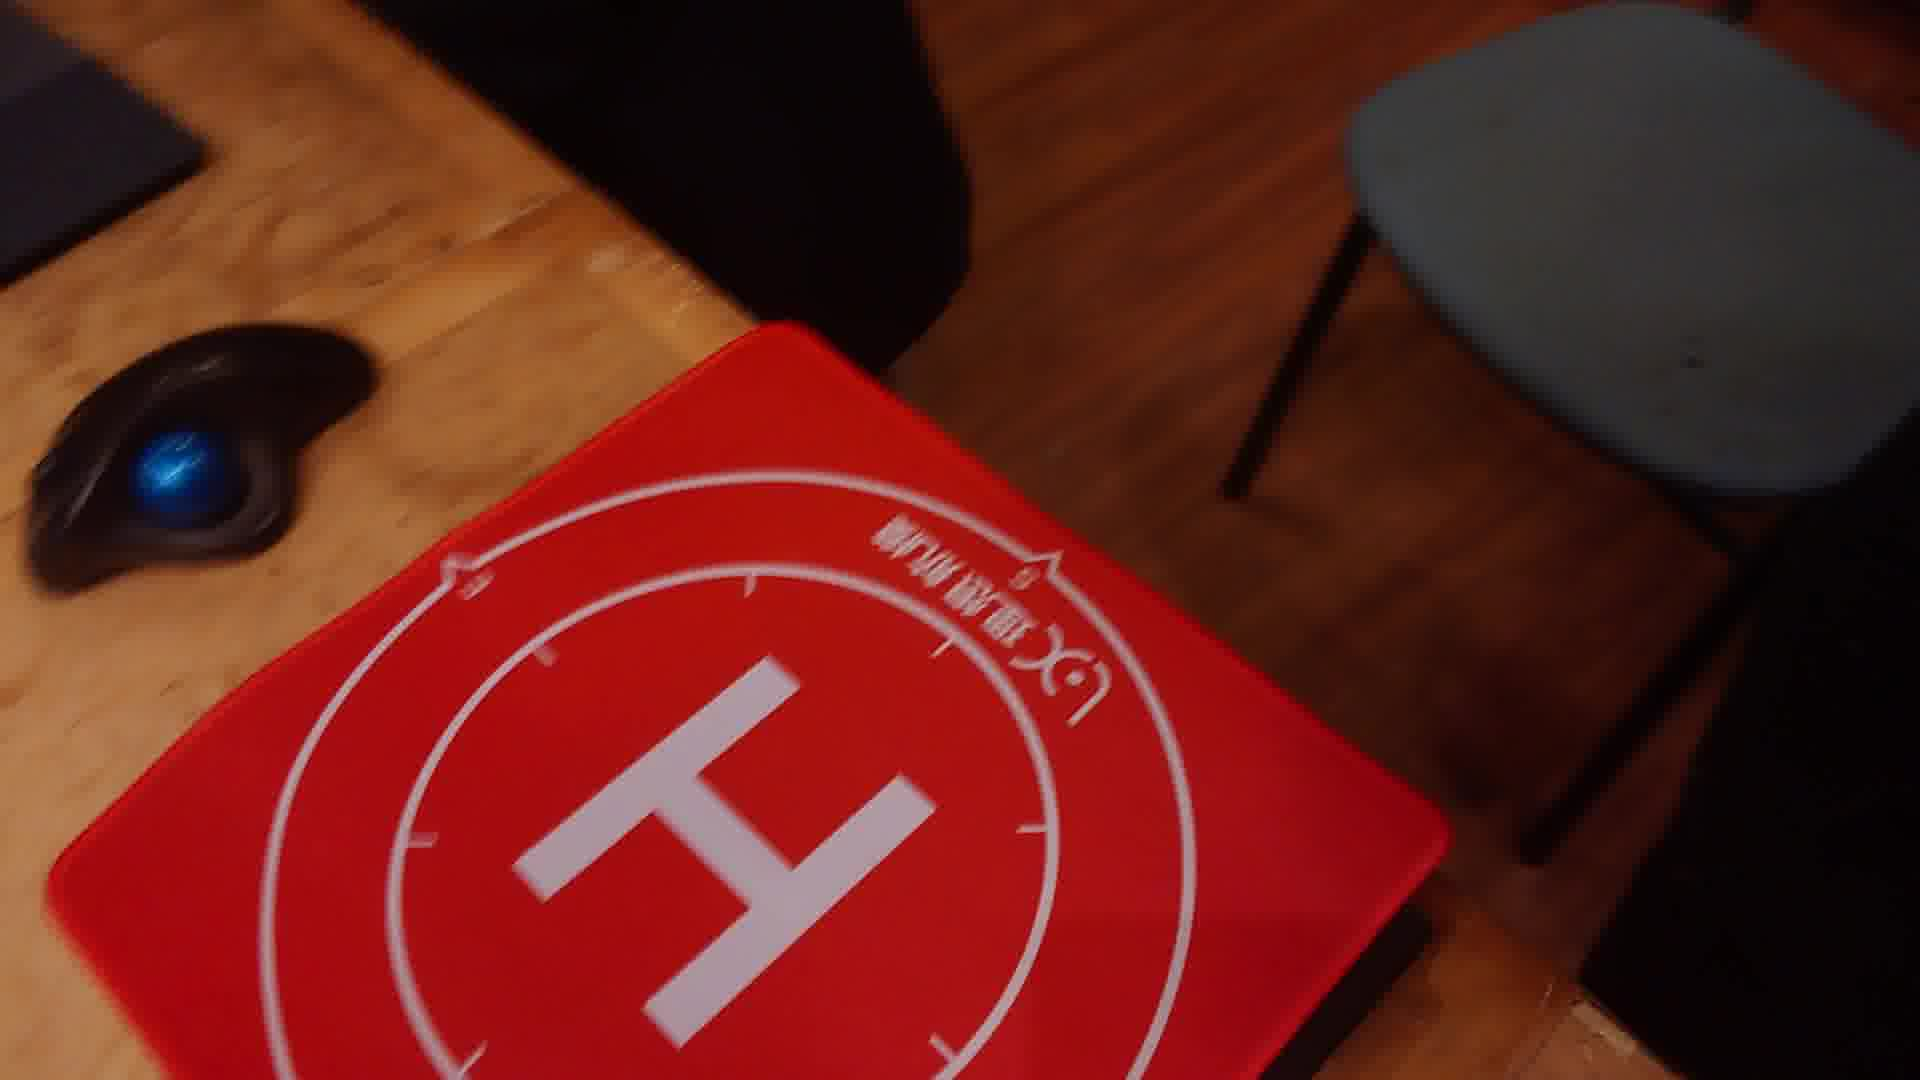H: (516, 650, 934, 1048)
